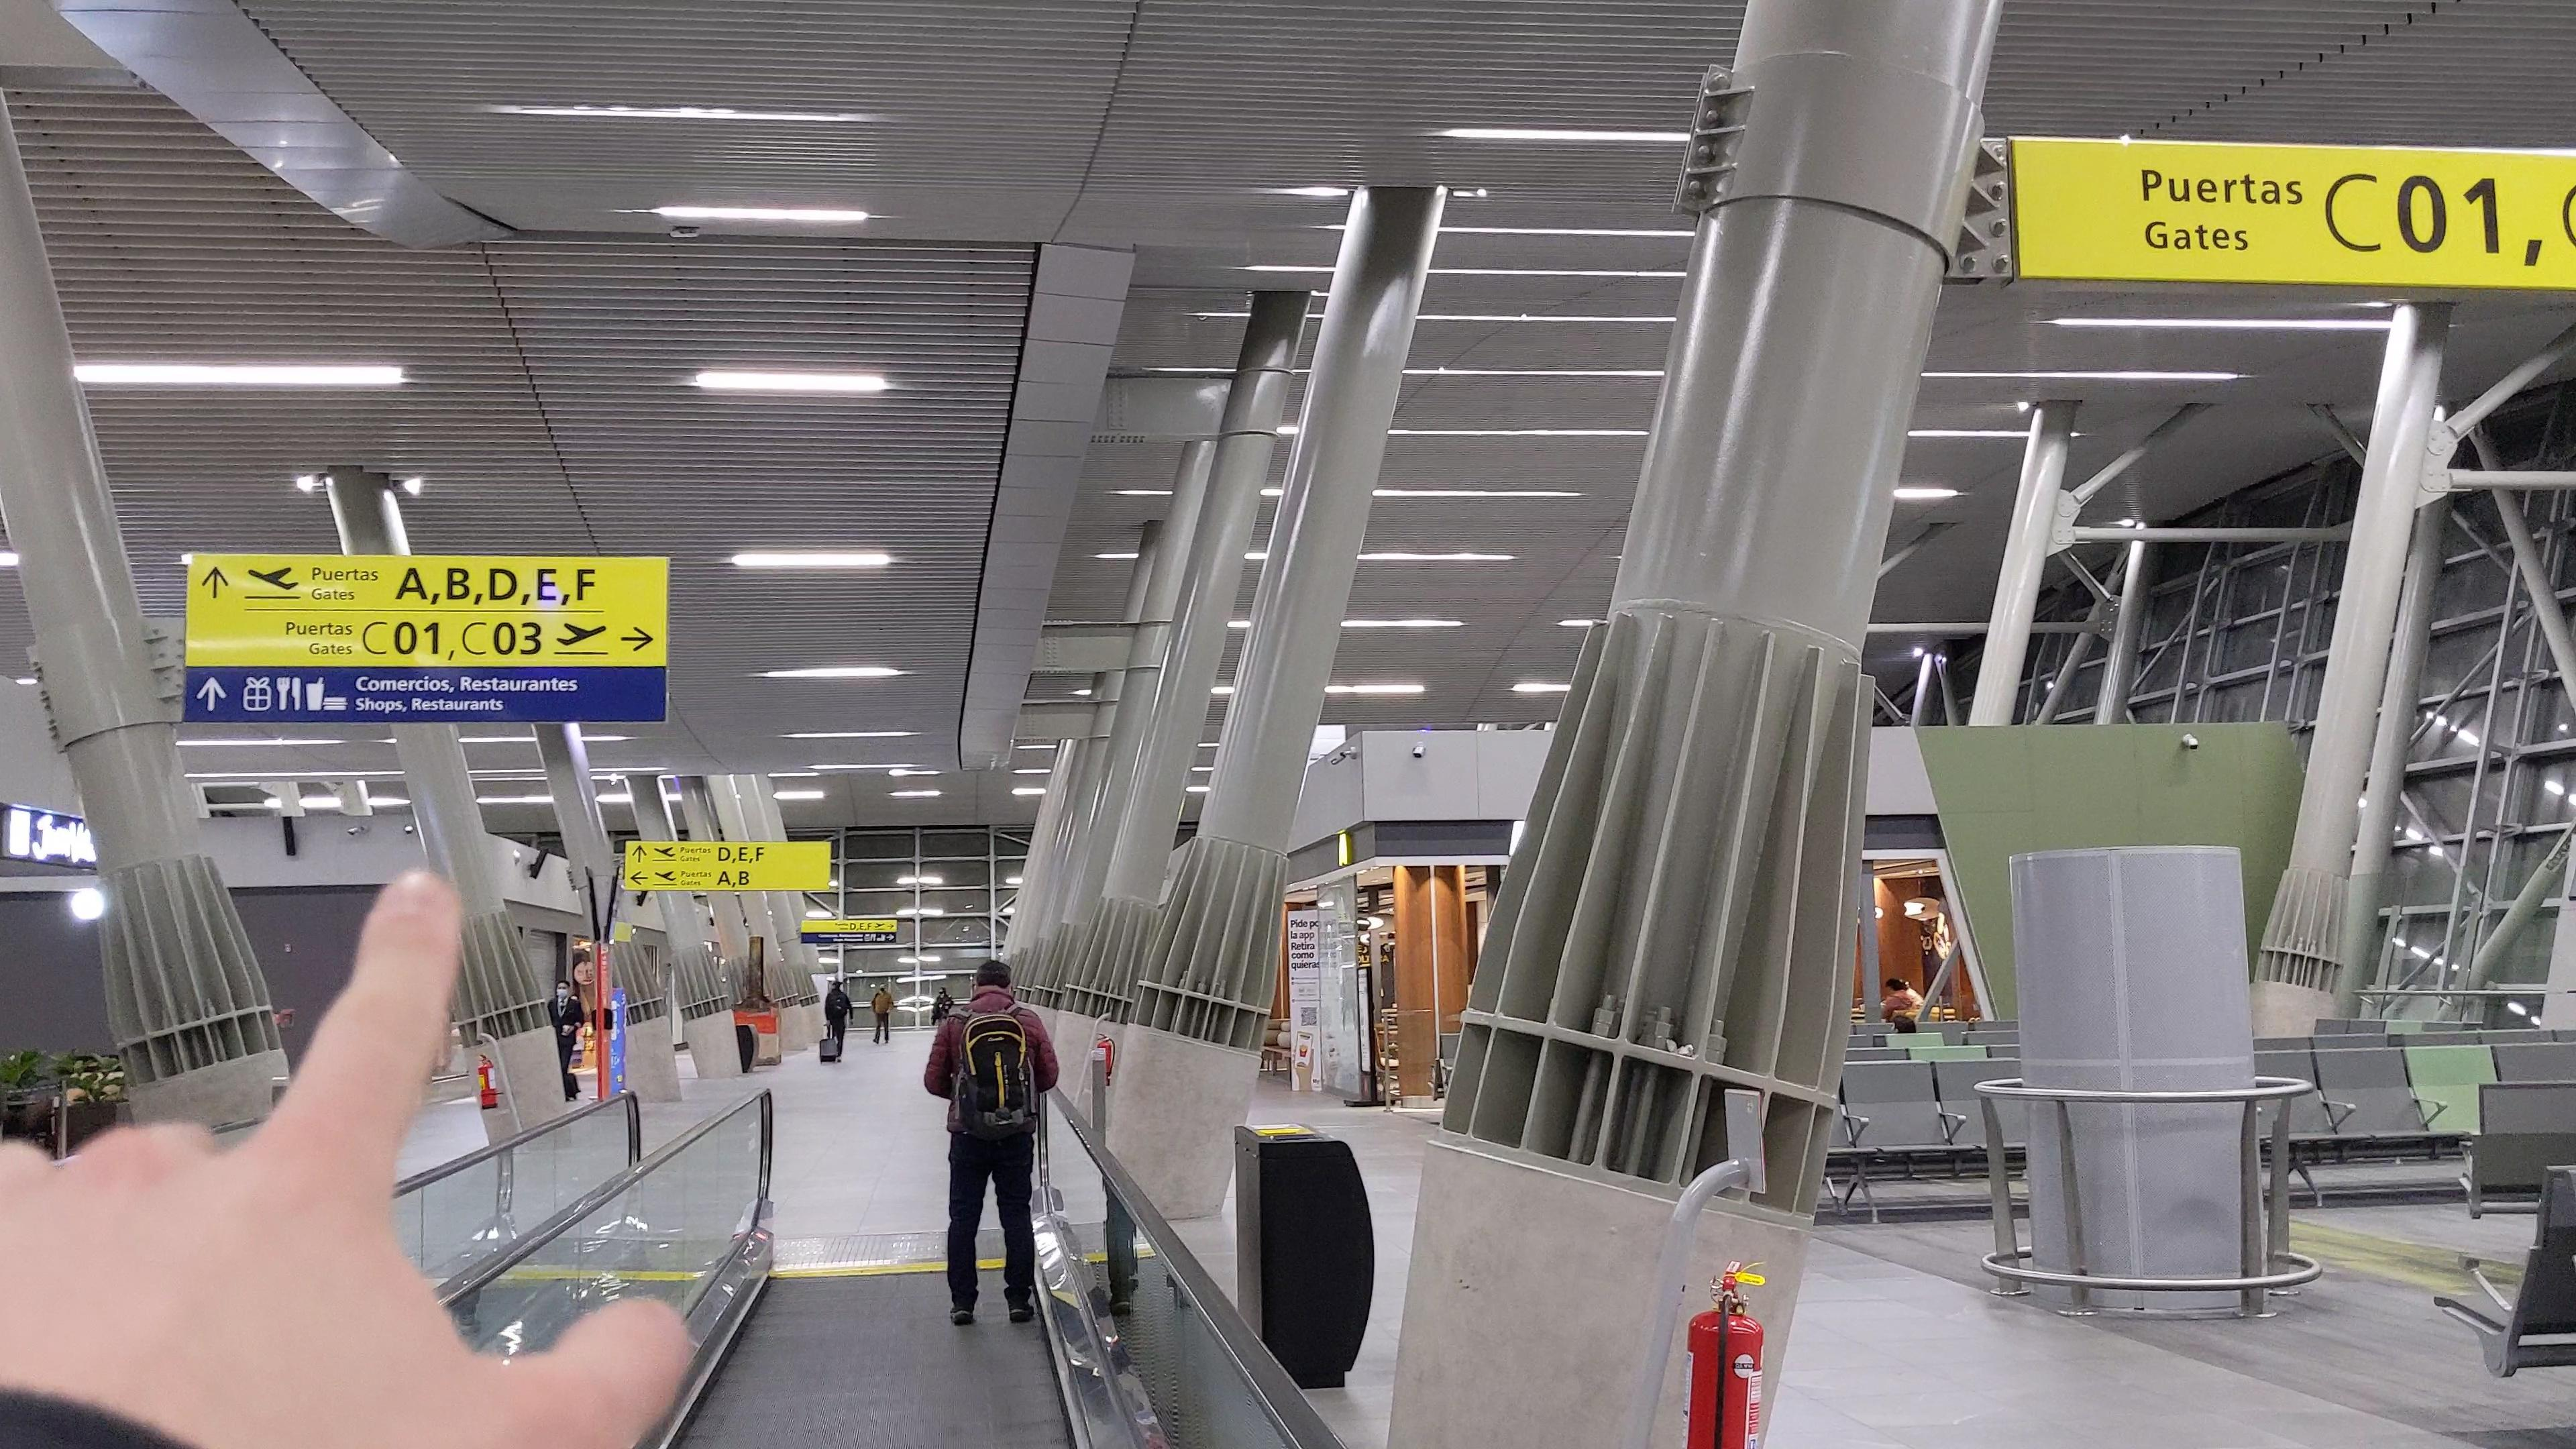airplane symbol: (244, 563, 301, 593), (556, 619, 609, 649), (655, 869, 678, 883), (653, 846, 676, 858), (874, 922, 885, 929)
fire-extinguisher: (1674, 1254, 1773, 1449), (474, 1051, 501, 1111), (1095, 1031, 1116, 1088)
restaurants: (276, 676, 303, 711)
right arrow: (886, 924, 895, 929)
thin left arrow: (630, 870, 649, 886)
thin right arrow: (619, 625, 656, 655)
thin up arrow: (195, 676, 230, 713), (198, 566, 232, 602), (633, 844, 648, 863)
up arrow: (886, 934, 895, 941)
